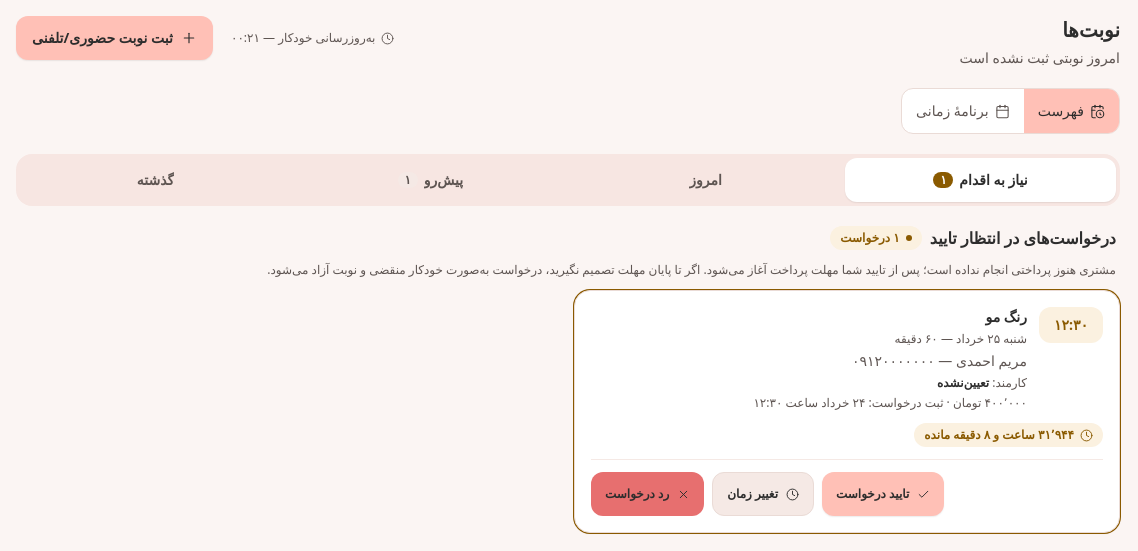
BookingsView › refetches after a 409 so the queue shows the state that actually won
This screenshot has width=1138, height=551.
Click the button with test id "approve-request": (883, 494) [822,472,944,516]
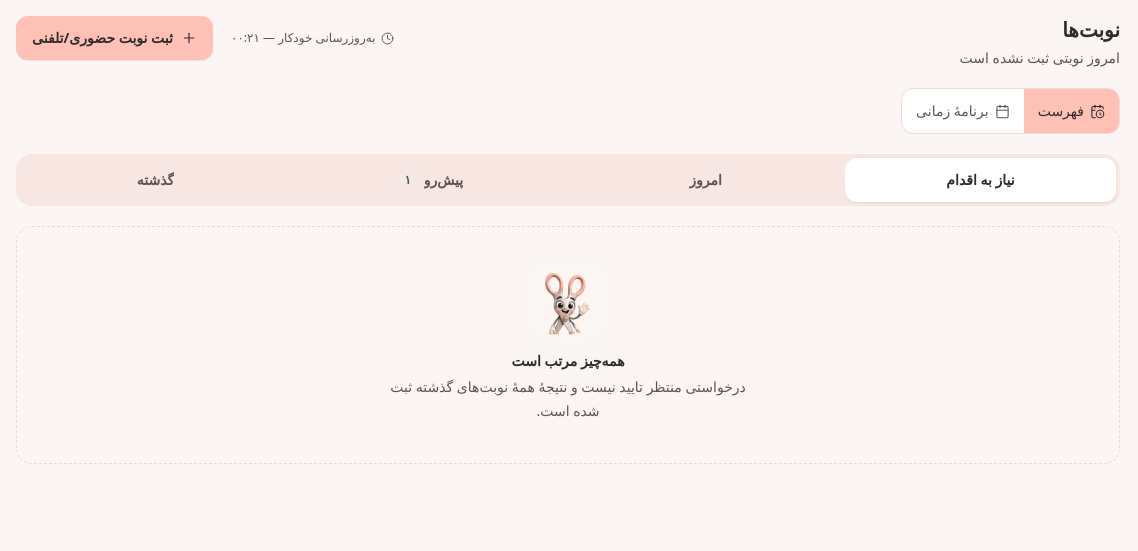
Click the tab with test id "tab-upcoming": (430, 180) [295,158,566,202]
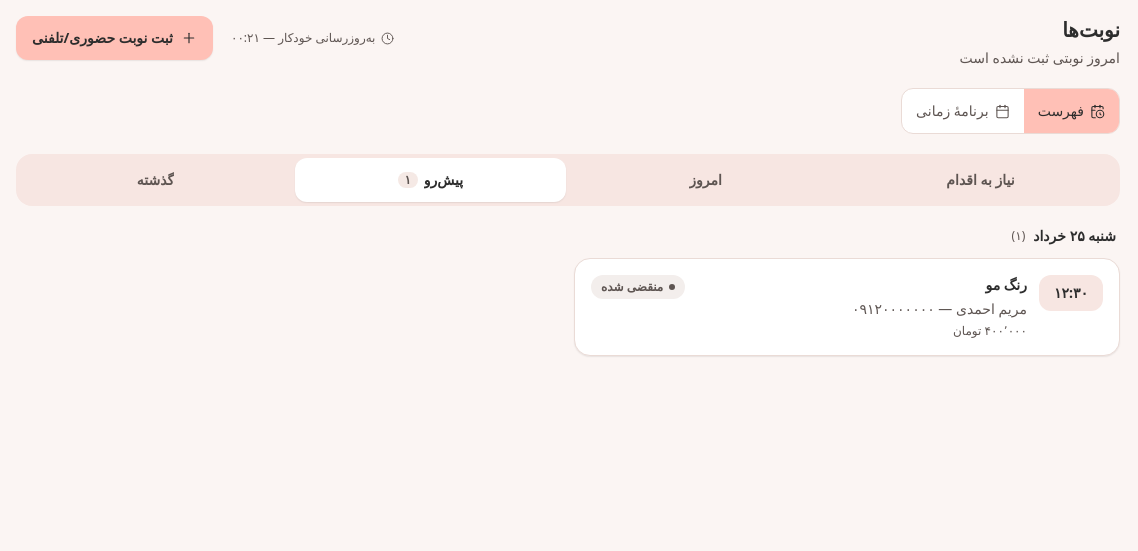
Now the element with test id "booking-req1" shows "منقضی شده", box [601,278,663,295]
